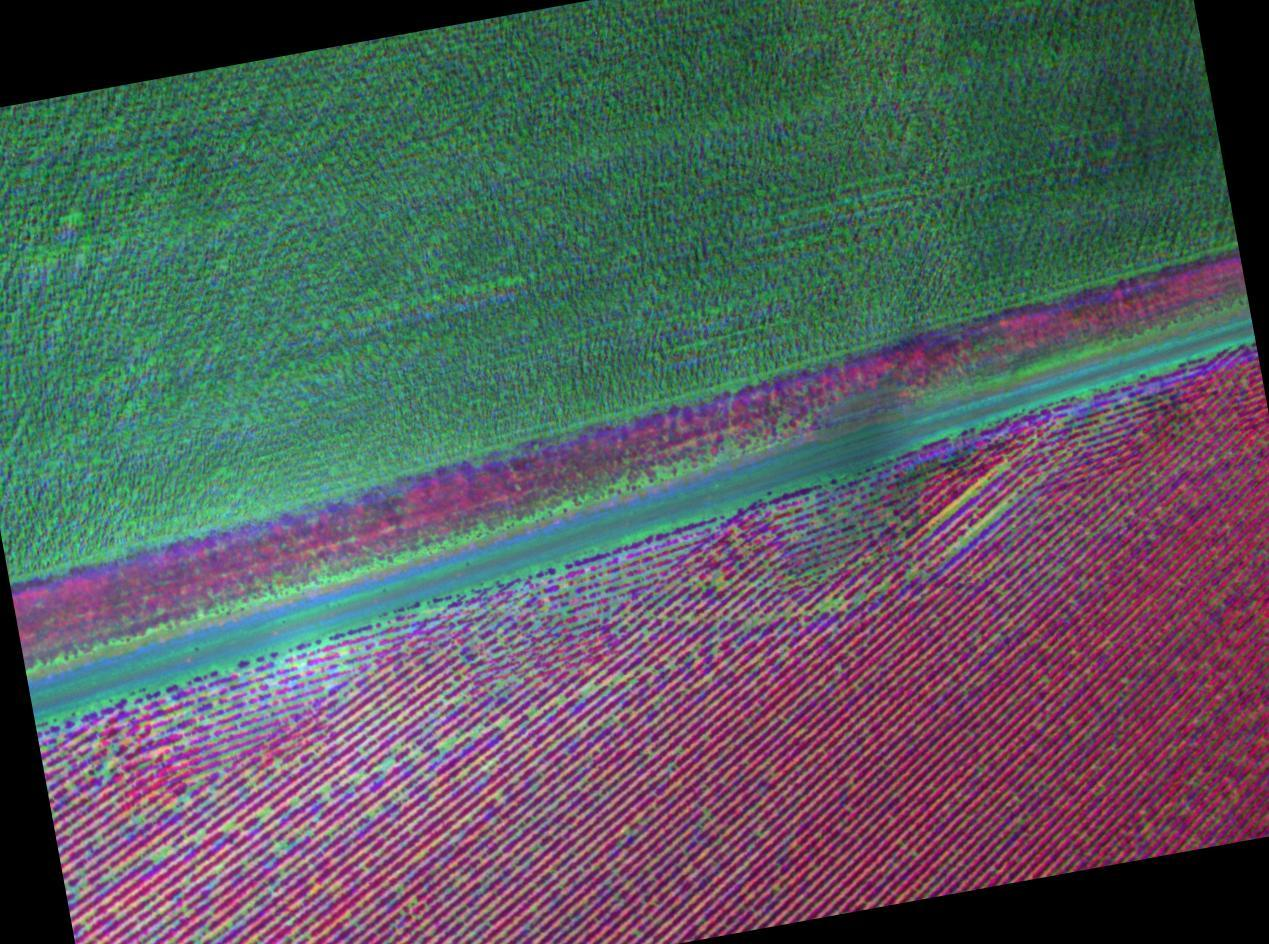dc: (822, 600, 831, 607), (961, 537, 968, 545), (500, 719, 507, 726), (615, 674, 621, 681)
